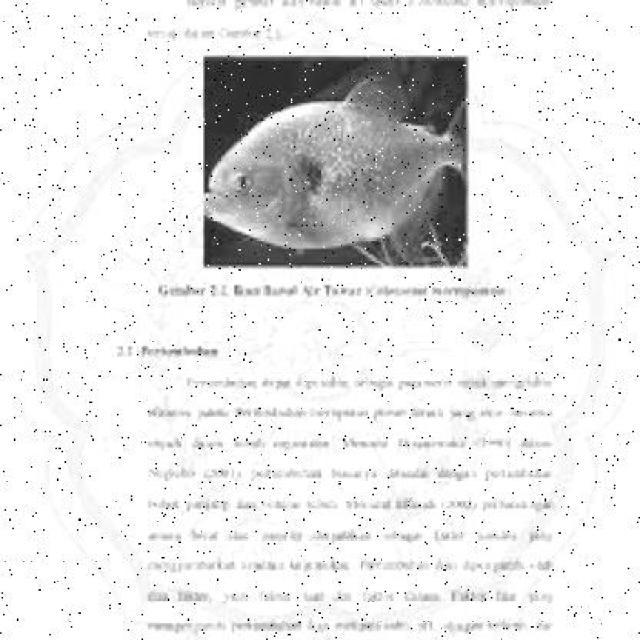ikan-pacu: (202, 71, 460, 252)
